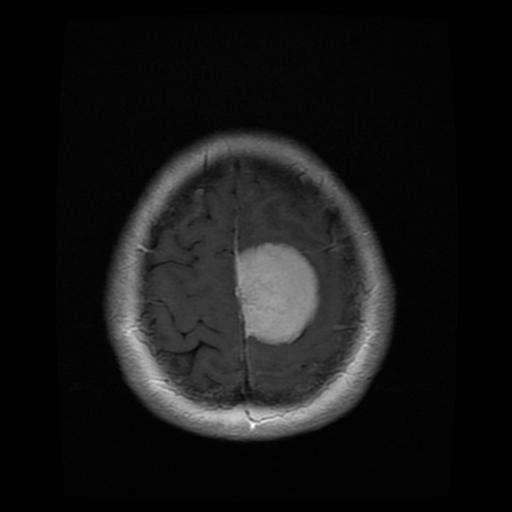Tumour-Meningioma: (209, 221, 329, 370)
